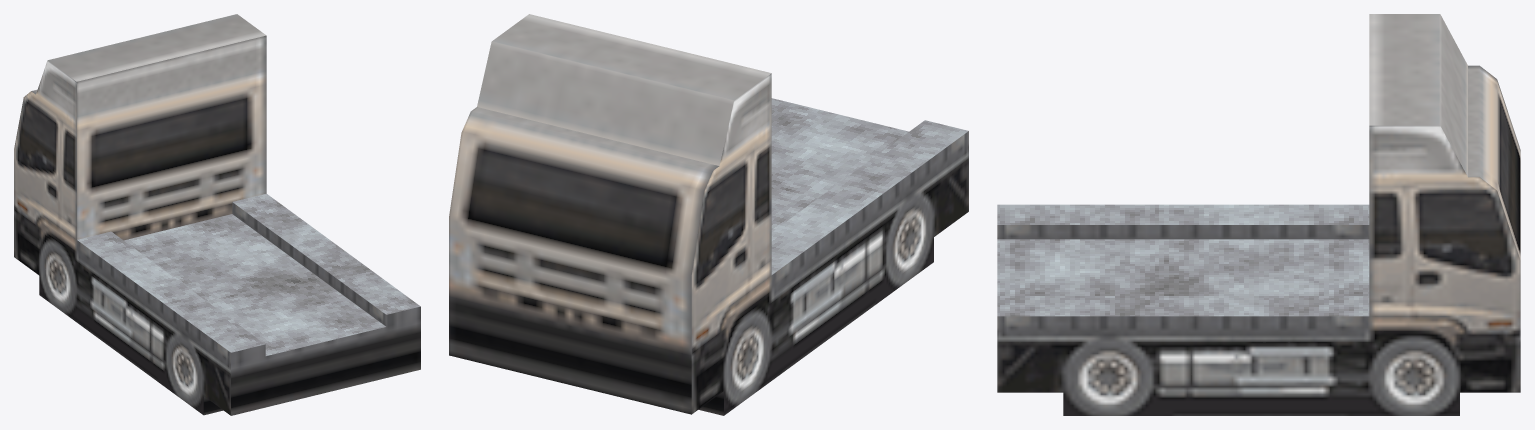
File: truck-flat.glb
The picture shows the model from 3 angles, left to right: view 1: azimuth 30°, elevation 25°; view 2: azimuth 150°, elevation 25°; view 3: azimuth 270°, elevation 25°; orthographic projection. The views are drawn at different scales.
Parts seen in each view (by area): view 1: truck-flat; view 2: truck-flat; view 3: truck-flat.
Boxes of the visible parts, x1,y1,x2,y2 form: truck-flat: (14,14,420,415); truck-flat: (449,14,968,415); truck-flat: (997,14,1520,415).
Size of the model in its own units: 0.83 by 1.01 by 1.64.
2 materials, 2 textured.
